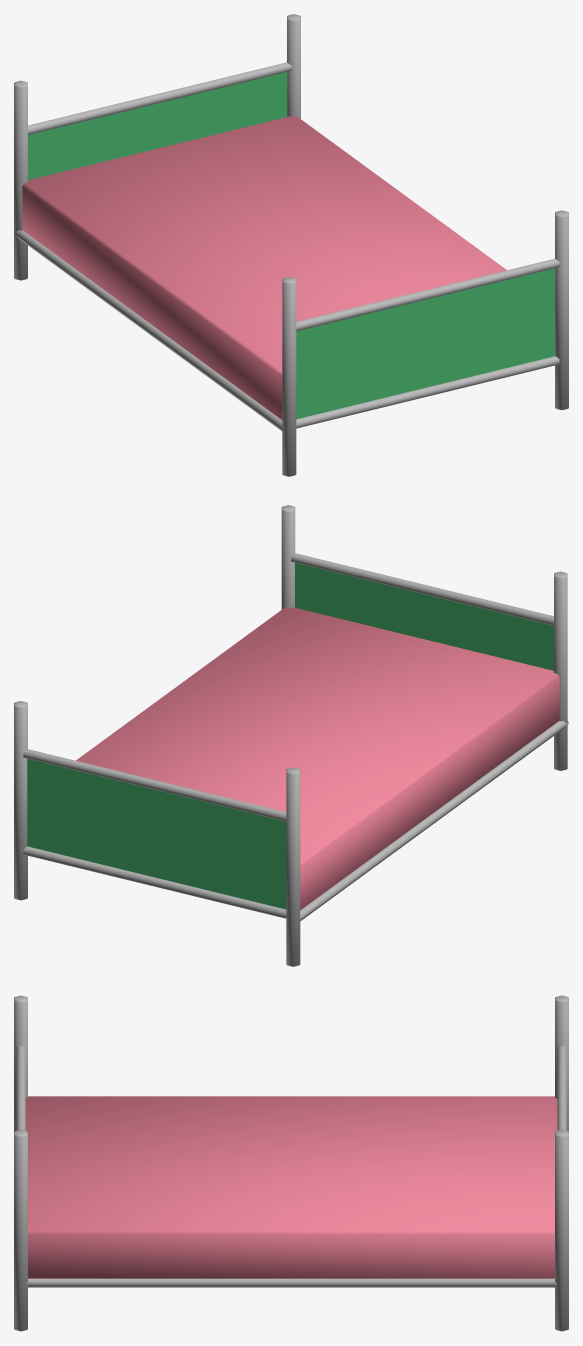
The model's file is bed.fbx.
3 views of the same model, one above another, from view 1: azimuth 30°, elevation 25°; view 2: azimuth 150°, elevation 25°; view 3: azimuth 270°, elevation 25° (orthographic).
Visible parts, largest first — view 1: Würfel, Würfel_3, Zylinder_6; view 2: Würfel, Würfel_3, Zylinder_6; view 3: Würfel, Zylinder_6.
Boxes of the visible parts, left/top/right/bottom form: Würfel: left=22, top=116, right=506, bottom=419; Würfel_3: left=28, top=72, right=555, bottom=419; Zylinder_6: left=14, top=14, right=568, bottom=476; Würfel: left=76, top=607, right=559, bottom=909; Würfel_3: left=27, top=563, right=553, bottom=909; Zylinder_6: left=14, top=505, right=568, bottom=966; Würfel: left=25, top=1096, right=557, bottom=1278; Zylinder_6: left=14, top=995, right=568, bottom=1331.
Bounding box in the file's own units: 123 × 80 × 205.
Materials: 1 (1 with a texture image).
